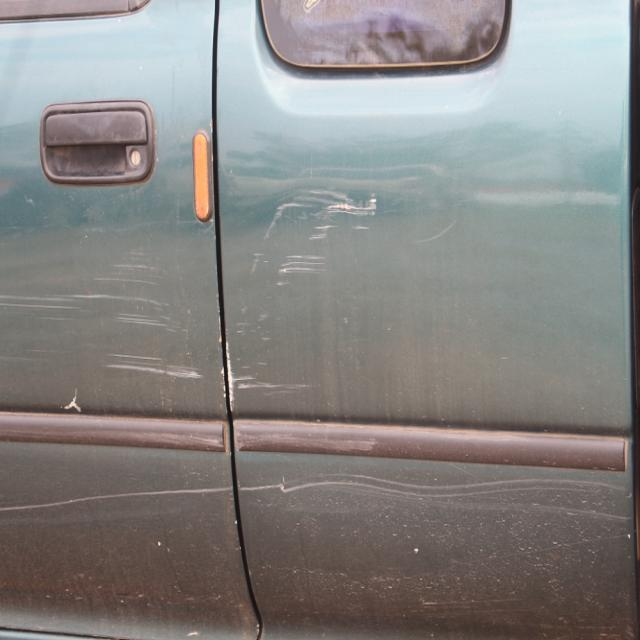scratch: (228, 184, 386, 416), (0, 245, 205, 384), (241, 472, 640, 501), (0, 483, 234, 515)
